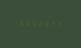eight: (17, 18, 22, 27), (23, 19, 28, 27), (41, 20, 46, 28)
seven: (47, 20, 52, 28), (53, 20, 58, 28)
six: (29, 19, 34, 27)
two: (35, 19, 40, 28)
